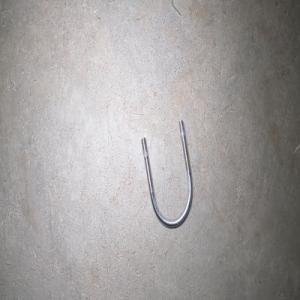ClampPart: (140, 119, 193, 228)
